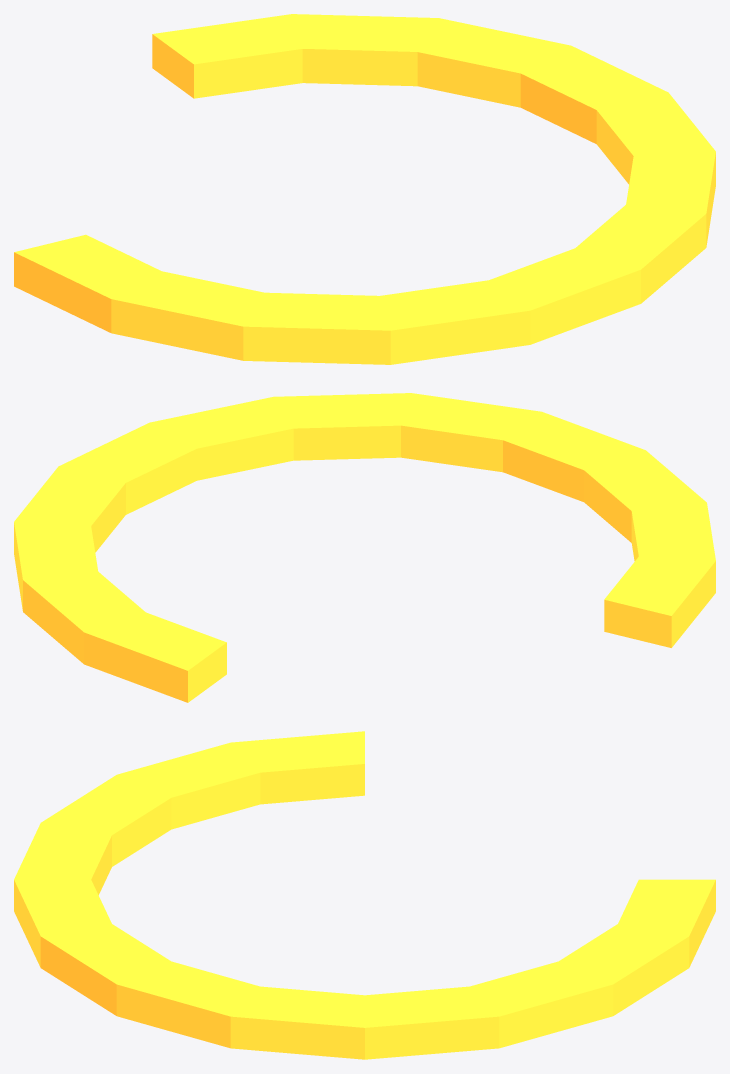
File: kickArc.glb
3 renders of one model, top to bottom at view 1: azimuth 30°, elevation 25°; view 2: azimuth 150°, elevation 25°; view 3: azimuth 270°, elevation 25°, orthographic. The views are drawn at different scales.
Parts seen in each view (by area): view 1: KickArc.Main; view 2: KickArc.Main; view 3: KickArc.Main.
Part boxes in pixels (box(x1,y1,x2,y2)): KickArc.Main: box(14, 14, 715, 364); KickArc.Main: box(14, 393, 715, 702); KickArc.Main: box(14, 731, 715, 1059).
Size of what is drawn, in the model's own units: 20 by 0.9998 by 20.
